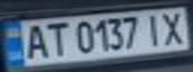0: (72, 18, 93, 54)
1: (93, 16, 112, 52)
3: (106, 16, 127, 51)
7: (121, 14, 145, 50)
A: (18, 21, 51, 60)
I: (139, 11, 169, 47)
T: (39, 20, 69, 57)
X: (157, 9, 190, 46)
